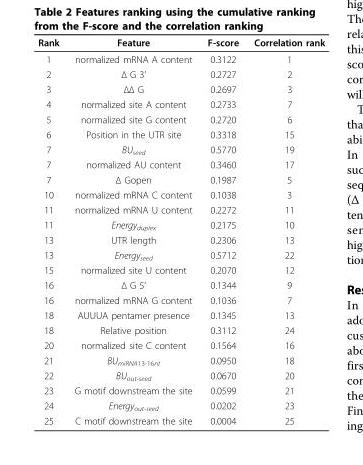table: (37, 36, 324, 425)
table column: (66, 36, 199, 425), (245, 36, 324, 425), (199, 36, 245, 425), (37, 36, 66, 425)
table column header: (37, 36, 324, 50)
table row: (37, 50, 324, 66), (37, 141, 324, 157), (37, 216, 324, 232), (37, 352, 324, 368), (37, 397, 324, 413), (37, 66, 324, 81), (37, 81, 324, 96), (37, 96, 324, 111), (37, 111, 324, 126), (37, 126, 324, 141), (37, 171, 324, 186), (37, 186, 324, 201), (37, 201, 324, 216), (37, 232, 324, 247), (37, 247, 324, 262), (37, 262, 324, 277), (37, 277, 324, 292), (37, 292, 324, 307), (37, 307, 324, 322), (37, 322, 324, 337), (37, 337, 324, 352), (37, 368, 324, 383), (37, 36, 324, 50), (37, 157, 324, 171), (37, 383, 324, 397), (37, 413, 324, 425)
